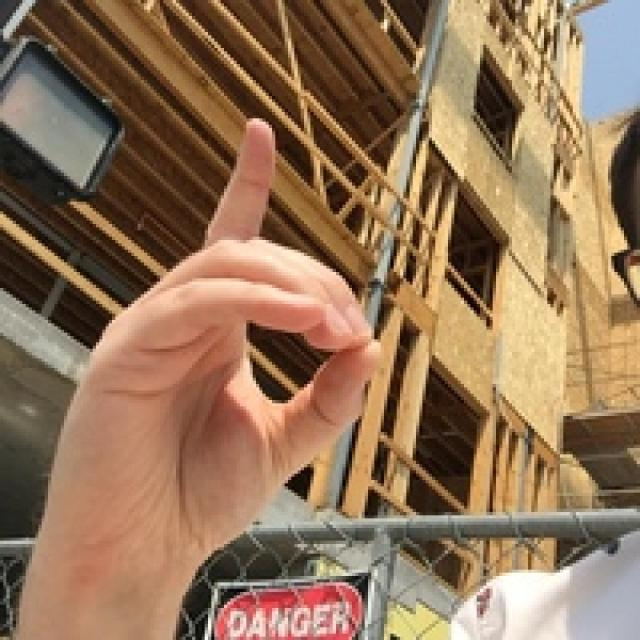D: (10, 79, 453, 600)
